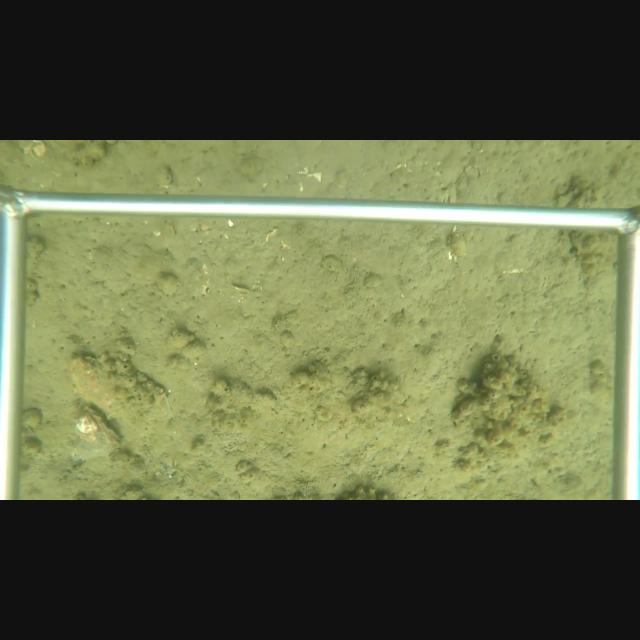Oyster-Closed: (70, 354, 175, 430), (67, 399, 122, 464)
